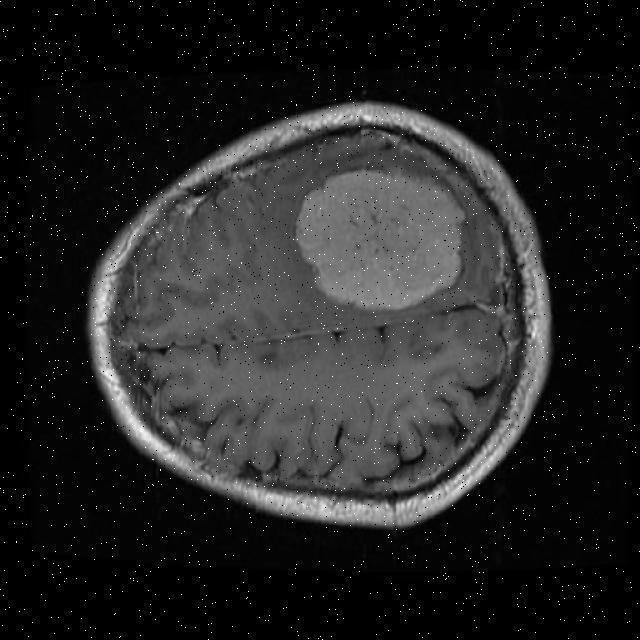Meningioma: (296, 169, 464, 309)
